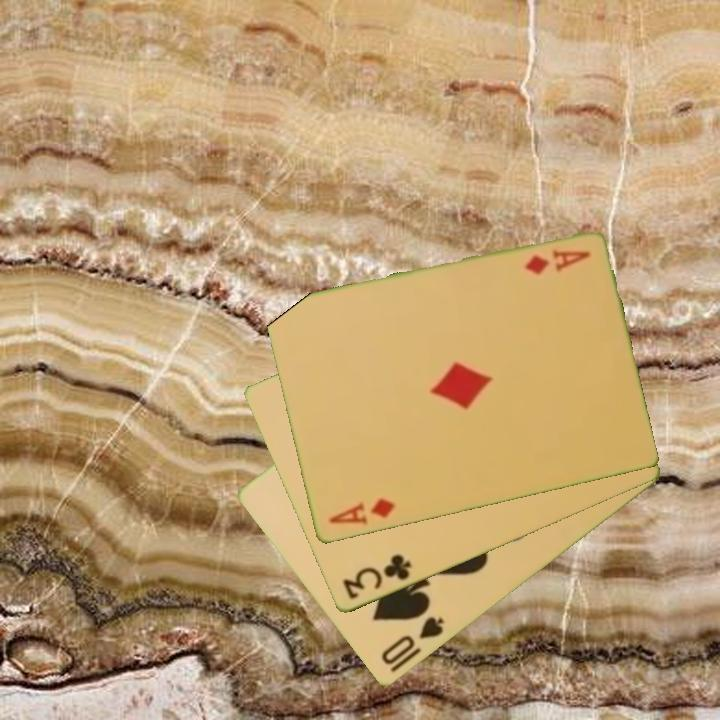10s: (377, 613, 447, 669)
3c: (339, 551, 414, 603)
Ad: (325, 495, 398, 528), (521, 247, 593, 278)
